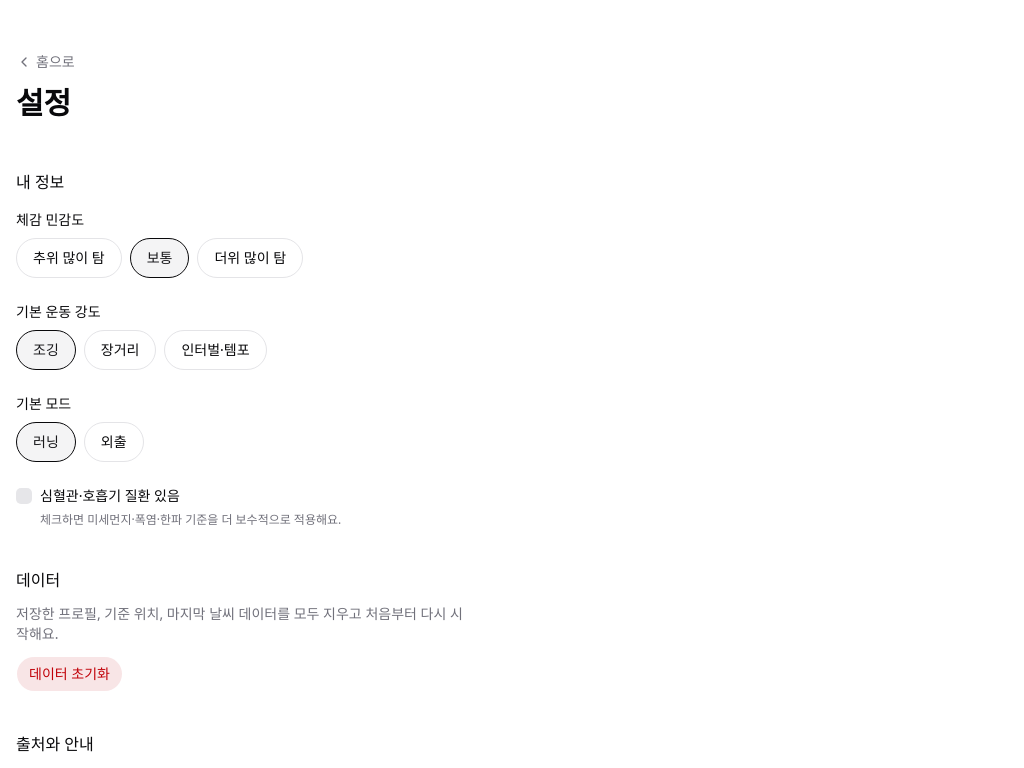
it: SettingsScreen: 데이터 초기화 › 초기화 버튼을 누르면 확인 다이얼로그가 열리고, 아직 아무것도 지우지 않는다
Click the button "데이터 초기화".
click(69, 674)  # box [16,656,123,692]
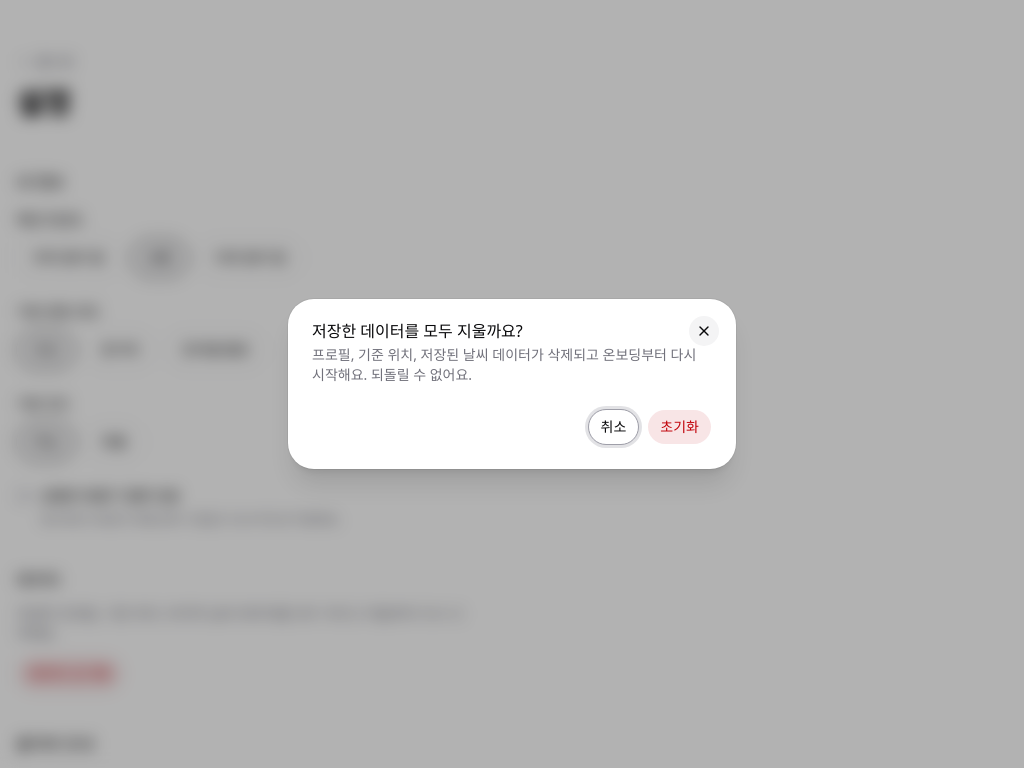
expect the dialog shows "저장한 데이터를 모두 지울까요?": met, box [312,320,523,342]
